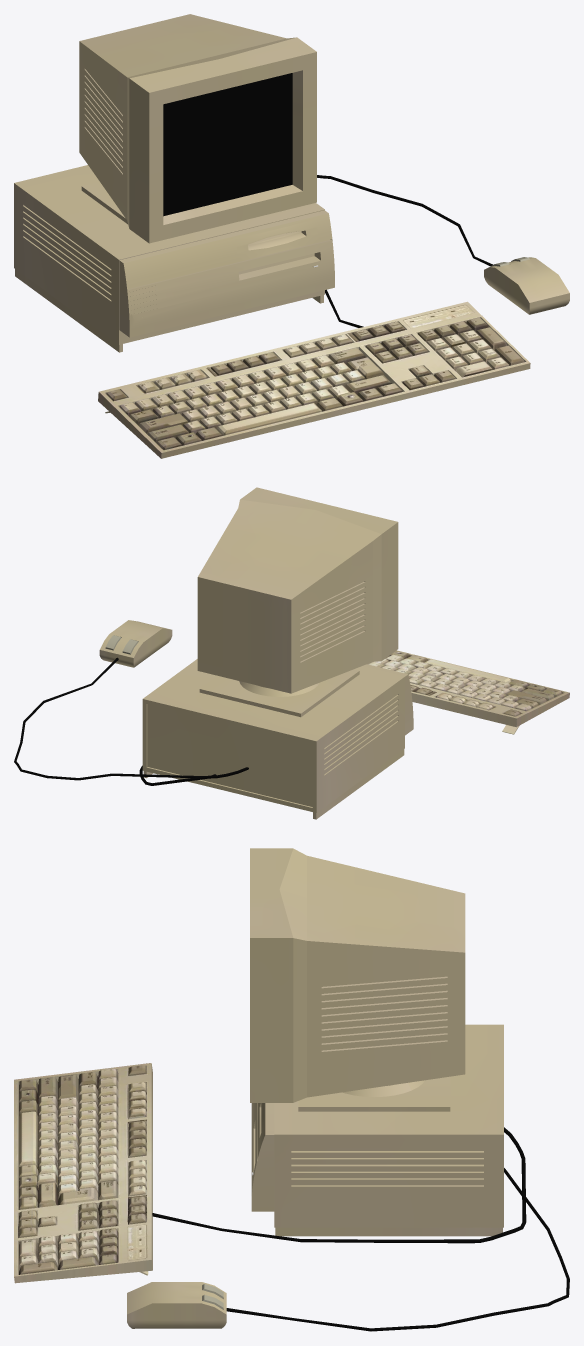
3 renders of one model, top to bottom at view 1: azimuth 30°, elevation 25°; view 2: azimuth 150°, elevation 25°; view 3: azimuth 270°, elevation 25°, orthographic. The views are drawn at different scales.
Visible parts, largest first — view 1: Object_4, Object_8, Object_23; view 2: Object_4, Object_23; view 3: Object_4, Object_23.
Part boxes in pixels (<box>): Object_4: <box>14,14,569,458</box>; Object_8: <box>163,73,292,216</box>; Object_23: <box>317,175,492,327</box>; Object_4: <box>99,487,569,819</box>; Object_23: <box>14,657,248,785</box>; Object_4: <box>14,848,503,1328</box>; Object_23: <box>146,1127,569,1331</box>.
Size of the model in its own units: 1.77 by 0.9833 by 1.69.
4 materials, 2 textured.
